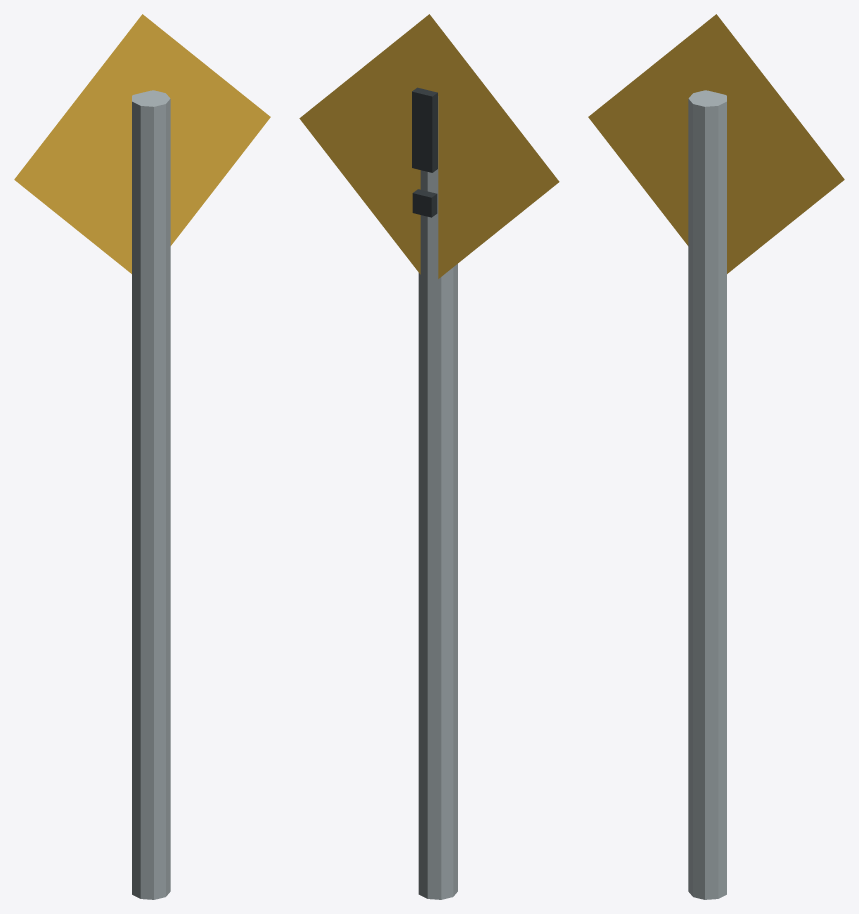
File: warning_sign.glb
3 renders of one model, left to right at view 1: azimuth 30°, elevation 25°; view 2: azimuth 150°, elevation 25°; view 3: azimuth 330°, elevation 25°, orthographic.
Visible parts, largest first — view 1: Post, Yellow_Sign; view 2: Yellow_Sign, Post, Exclamation, Dot; view 3: Post, Yellow_Sign.
Boxes of the visible parts, x1,y1,x2,y2 form: Post: [132, 90, 170, 899]; Yellow_Sign: [14, 14, 270, 273]; Yellow_Sign: [299, 14, 559, 278]; Post: [418, 96, 457, 899]; Exclamation: [412, 87, 437, 172]; Dot: [412, 189, 437, 217]; Post: [688, 90, 726, 899]; Yellow_Sign: [588, 14, 844, 273].
Size of the model in its own units: 0.82 by 2.66 by 0.1367.
